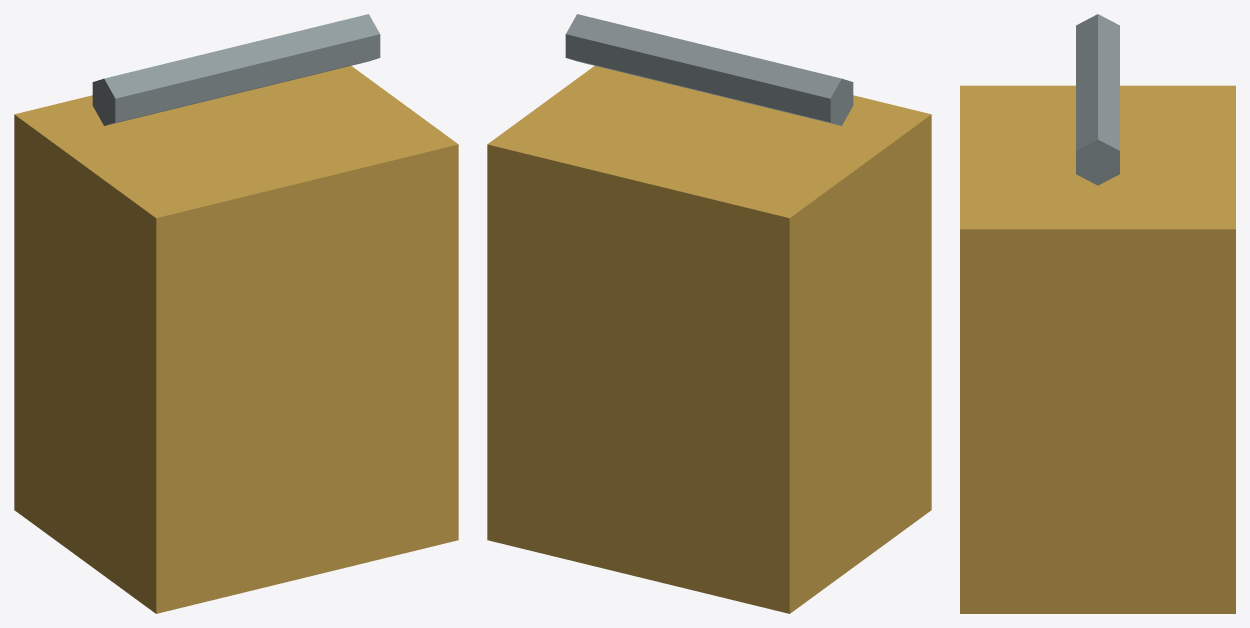
The model's file is wk_prop_lantern_v01.glb.
3 views of the same model, side by side, from view 1: azimuth 30°, elevation 25°; view 2: azimuth 150°, elevation 25°; view 3: azimuth 270°, elevation 25° (orthographic). The views are drawn at different scales.
Parts seen in each view (by area): view 1: GEO_LanternBody, GEO_LanternHandle; view 2: GEO_LanternBody, GEO_LanternHandle; view 3: GEO_LanternBody, GEO_LanternHandle.
Boxes of the visible parts, x1=… form: GEO_LanternBody: x1=14, y1=66, x2=458, y2=613; GEO_LanternHandle: x1=92, y1=14, x2=380, y2=125; GEO_LanternBody: x1=487, y1=66, x2=931, y2=613; GEO_LanternHandle: x1=565, y1=14, x2=853, y2=125; GEO_LanternBody: x1=960, y1=85, x2=1235, y2=613; GEO_LanternHandle: x1=1076, y1=14, x2=1119, y2=185.
Bounding box in the file's own units: 0.16 × 0.242 × 0.13.
